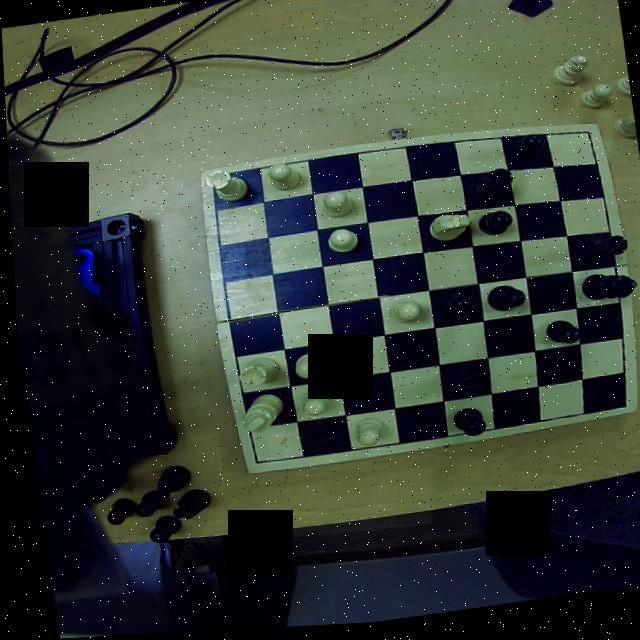chess-table-corners: (238, 449, 264, 474), (200, 170, 228, 193), (602, 402, 632, 420), (575, 131, 599, 152)
